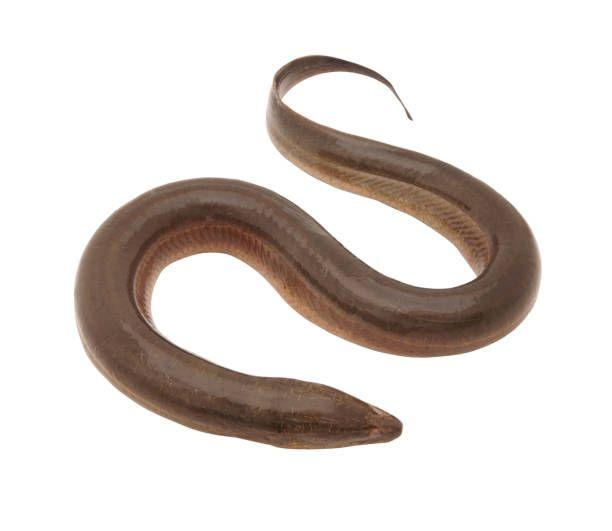Freshwater Eel: (71, 53, 542, 451)
